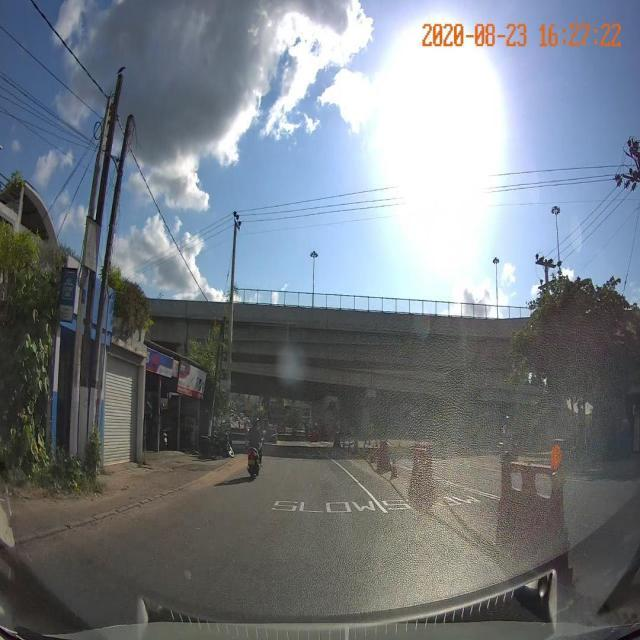Liniya 1: (340, 467, 390, 515), (462, 483, 501, 502)
SLOW: (382, 491, 485, 513), (271, 500, 375, 513)
